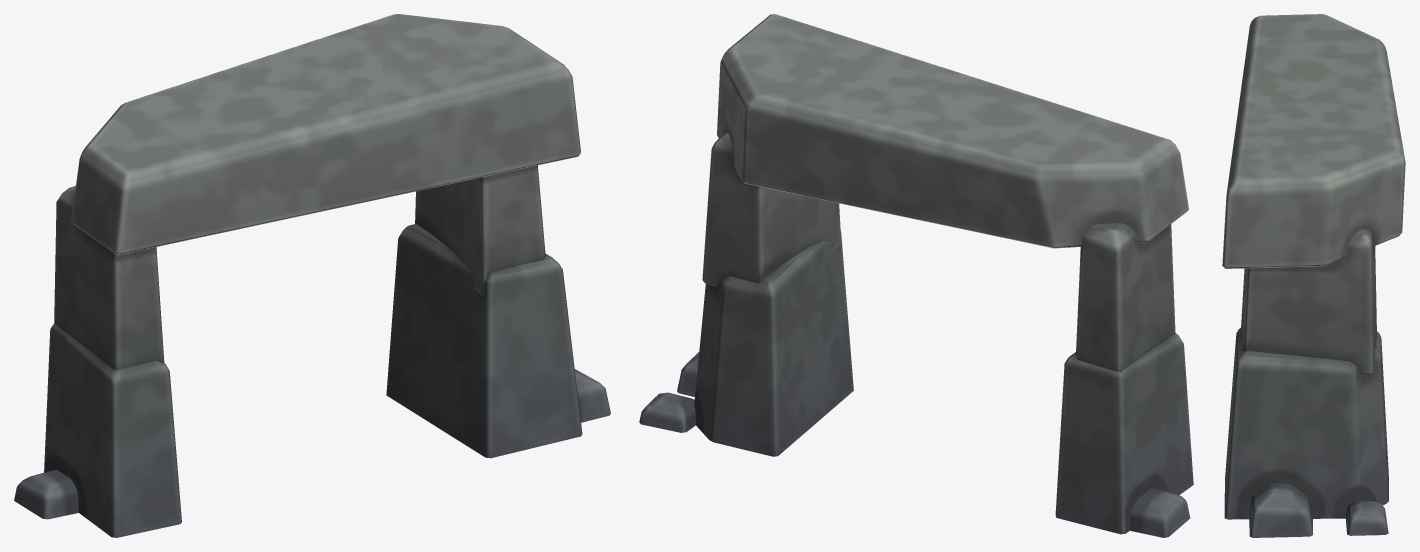
File: arch_2.glb
3 views of the same model, side by side, from view 1: azimuth 30°, elevation 25°; view 2: azimuth 150°, elevation 25°; view 3: azimuth 270°, elevation 25° (orthographic). The views are drawn at different scales.
Parts seen in each view (by area): view 1: arch_2; view 2: arch_2; view 3: arch_2.
Part boxes in pixels (x1=…): arch_2: x1=14, y1=14, x2=610, y2=537; arch_2: x1=639, y1=14, x2=1193, y2=537; arch_2: x1=1222, y1=14, x2=1405, y2=537.
Size of the model in its own units: 6.6 by 4.4 by 2.2.
1 material, 1 textured.
